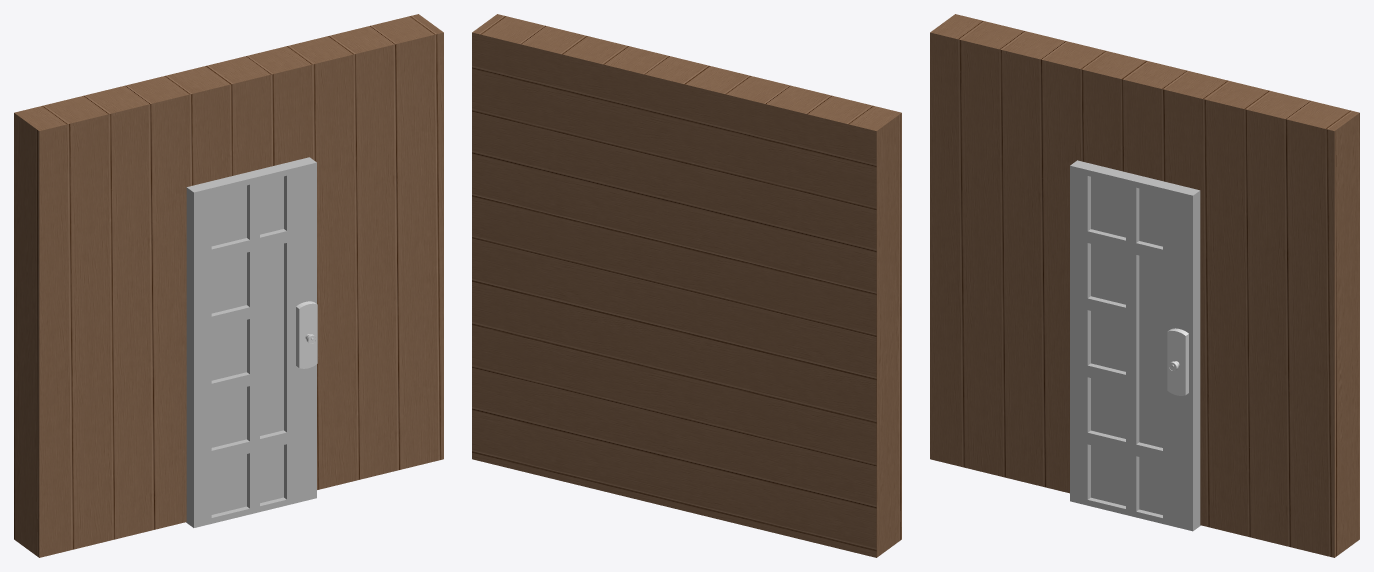
Rendered from Pintu.fbx.
3 views of the same model, side by side, from view 1: azimuth 30°, elevation 25°; view 2: azimuth 150°, elevation 25°; view 3: azimuth 330°, elevation 25° (orthographic).
Visible parts, largest first — view 1: Pintu; view 2: Pintu; view 3: Pintu.
Boxes of the visible parts, x1,y1,x2,y2 form: Pintu: [14, 14, 443, 557]; Pintu: [472, 14, 901, 557]; Pintu: [930, 14, 1359, 557].
Bounding box in the file's own units: 3000 × 3030 × 525.
